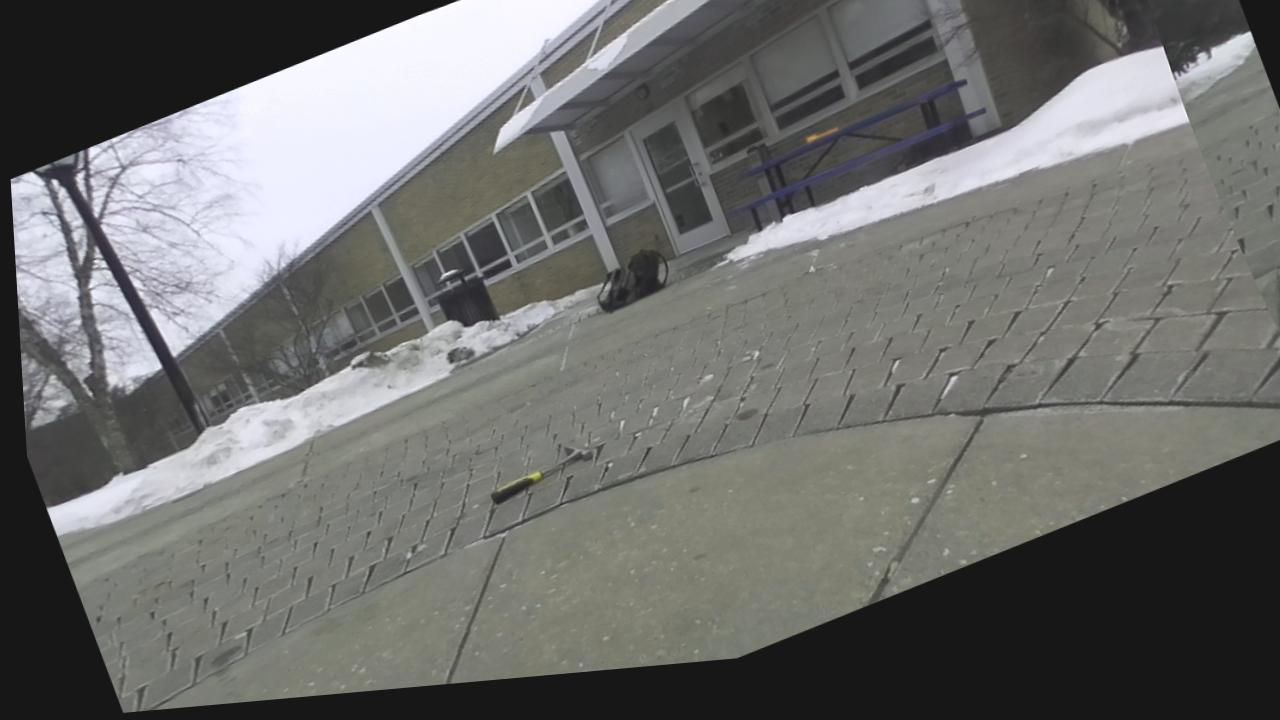pick: (491, 447, 595, 504)
